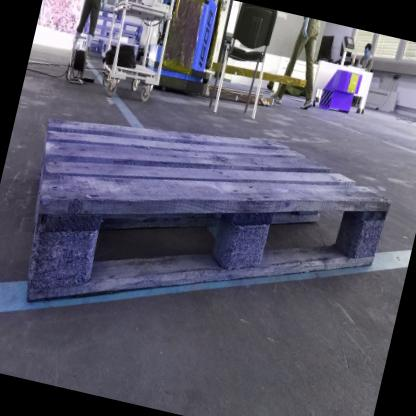BoxFace: (21, 115, 397, 310)
